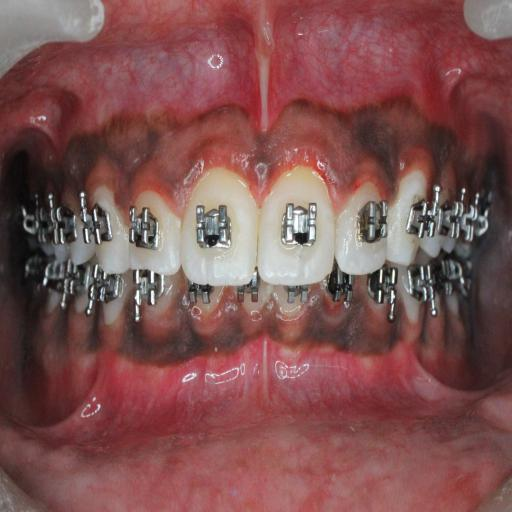correct_brace: (280, 196, 320, 251), (194, 202, 233, 256), (405, 188, 437, 242), (356, 196, 388, 246), (127, 205, 157, 250)
incorrect_brace: (335, 176, 384, 272), (127, 194, 179, 273)
